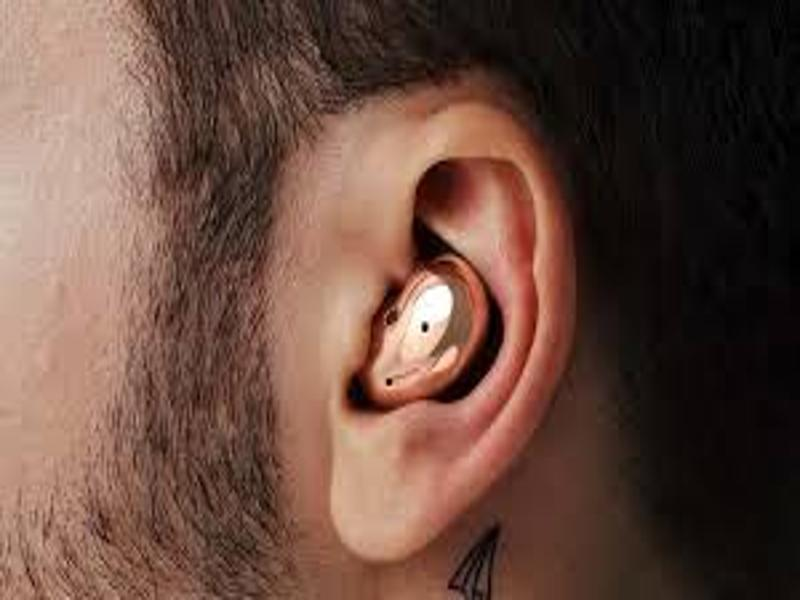headphone: (353, 251, 494, 409)
